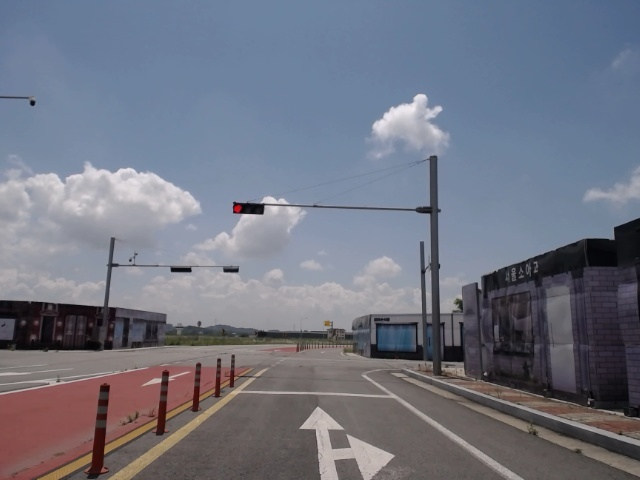red_3: (231, 202, 268, 215)
